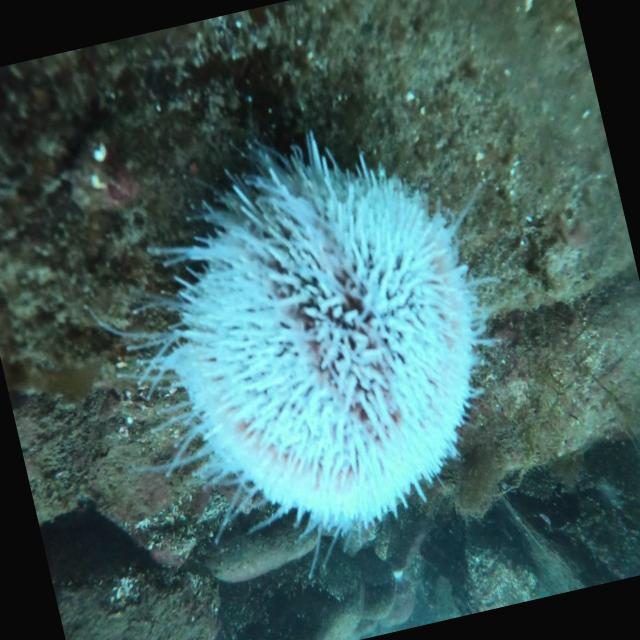Deniz Kestanesi: (49, 94, 559, 616)
